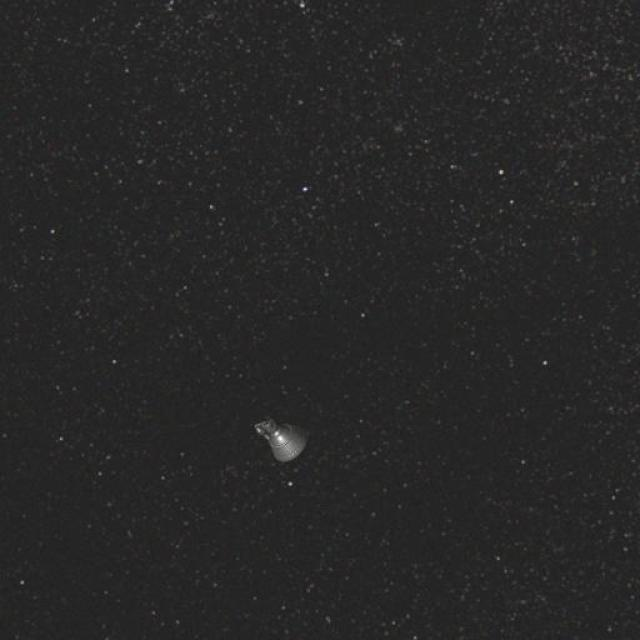debris: (245, 406, 320, 472)
